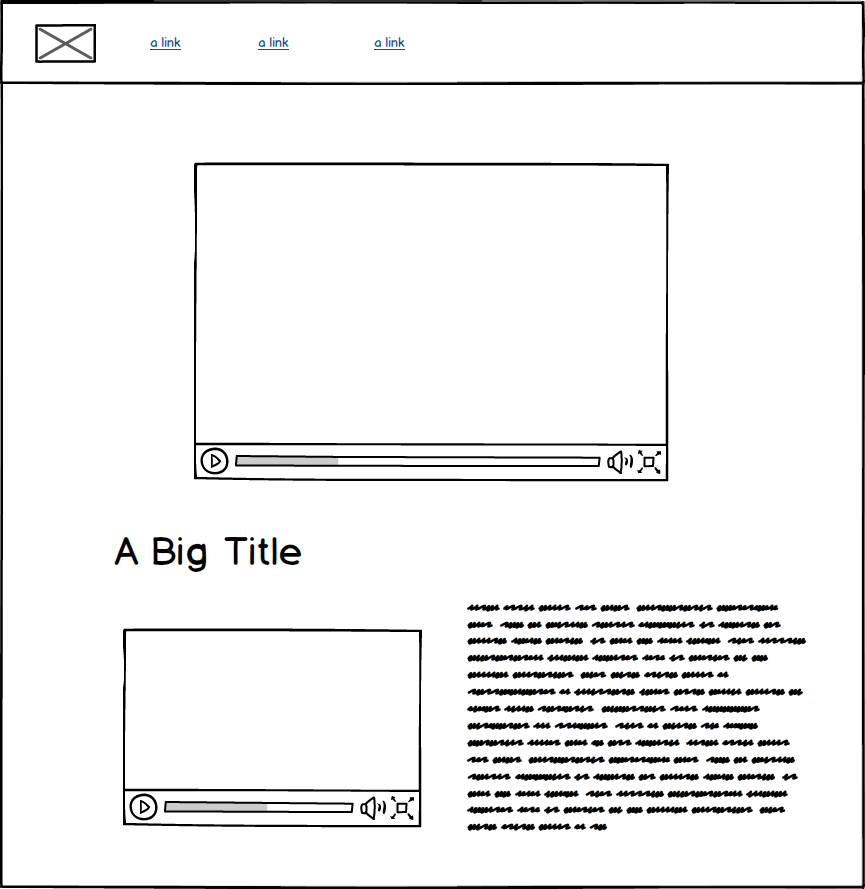h1: (109, 528, 311, 574)
image: (32, 21, 101, 66)
navlink: (253, 31, 299, 54), (368, 32, 416, 52), (148, 36, 188, 51)
p: (461, 596, 816, 840)
video: (188, 154, 675, 489), (118, 625, 428, 835)
